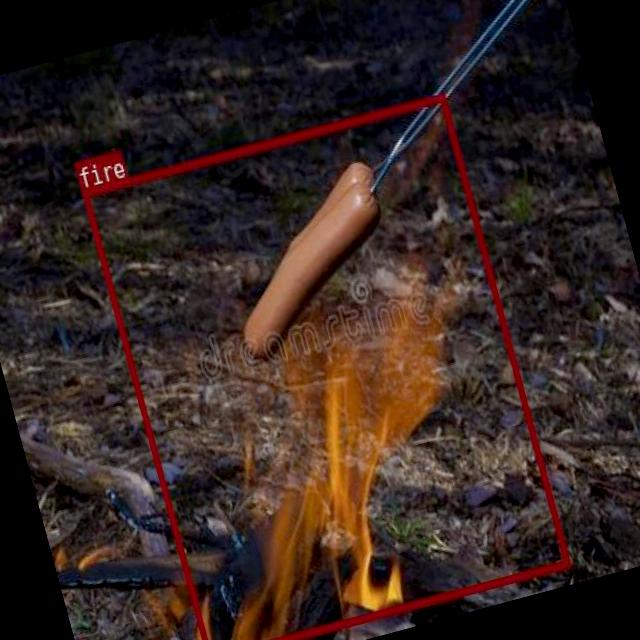fire: (80, 92, 569, 640)
